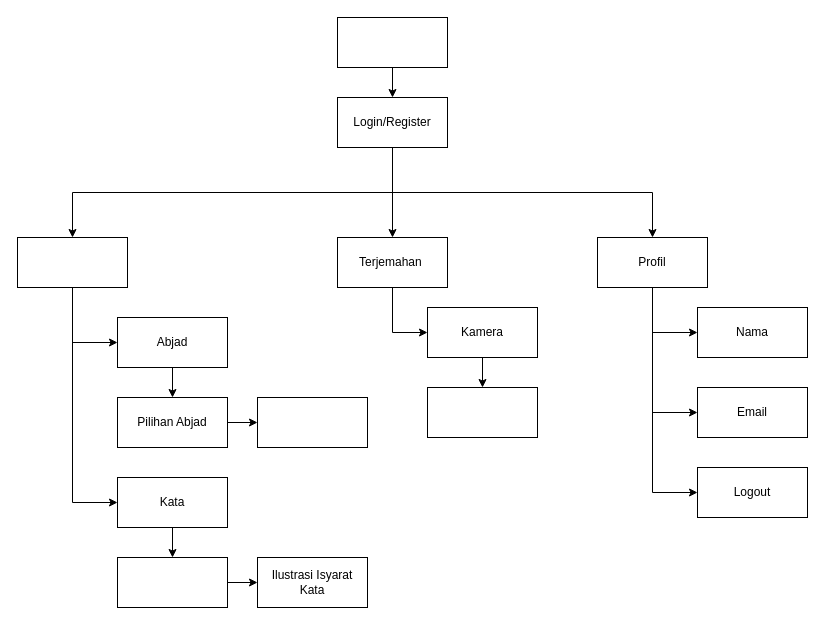
Some shapes in this 825 by 625 pixel diagram are drawn without their labels. The centre of each missing label's shape, as x and y in pixels:
"Hasil Terjemahan" goes at (x=482, y=412).
"Home (Pembelajaran)" goes at (x=72, y=262).
"Ilustrasi Isyarat Abjad" goes at (x=312, y=422).
"Pilihan Kata" goes at (x=172, y=582).
"Splash Screen" goes at (x=392, y=42).
